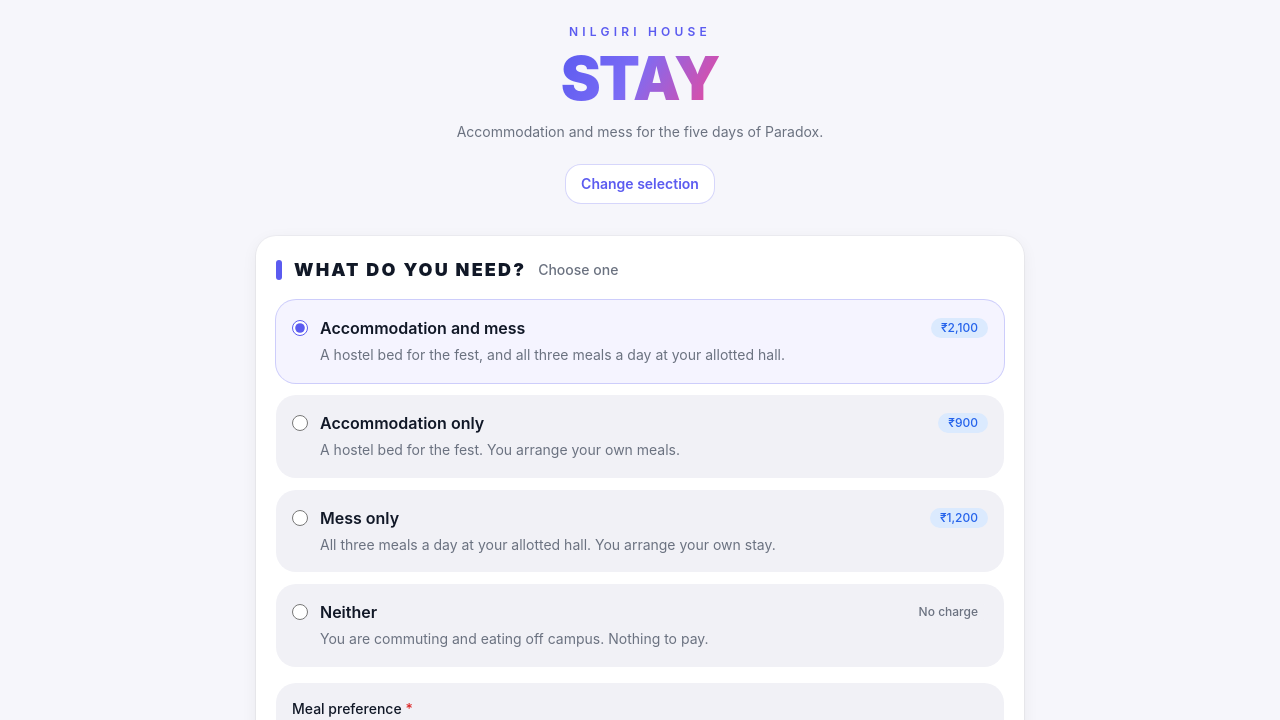
AccommodationPage › settles "neither" on the spot, with no checkout and nothing to pay
Click the radio button labelled "Neither": (300, 612) [292,604,308,620]
(page scrolled)
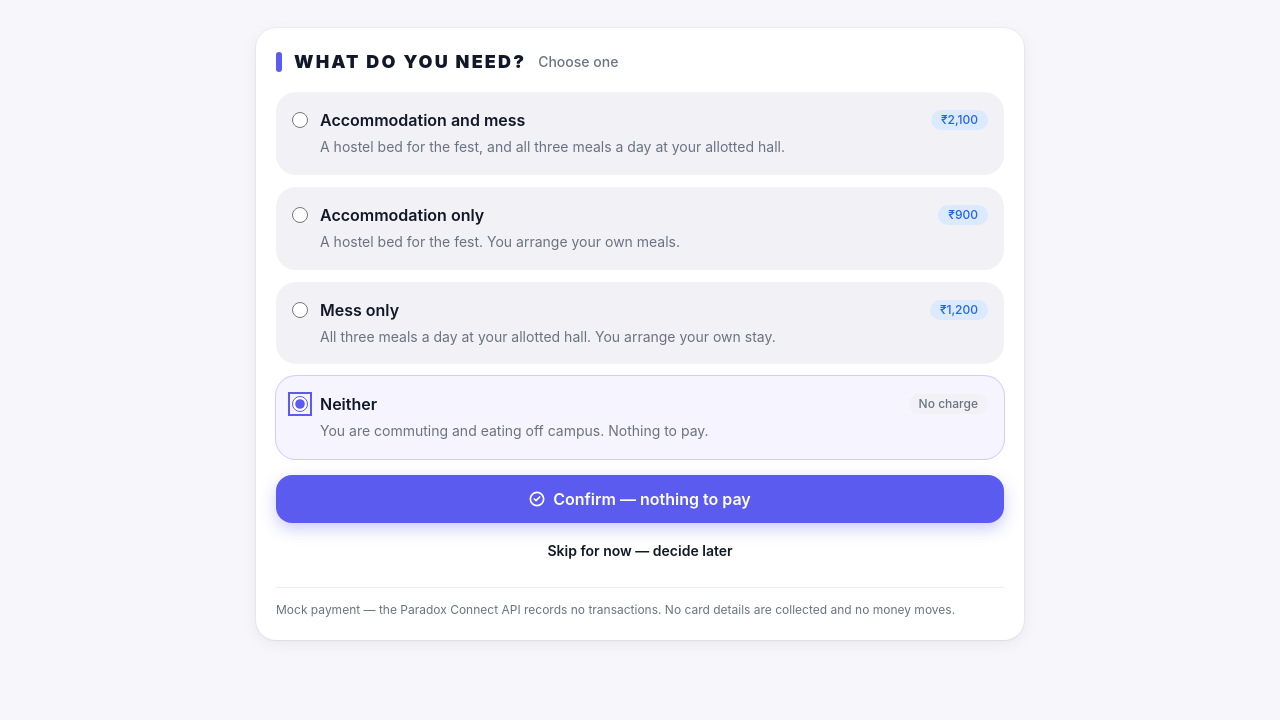
Click the button "Confirm — nothing to pay": (640, 499) [276,475,1004,523]
(page scrolled)
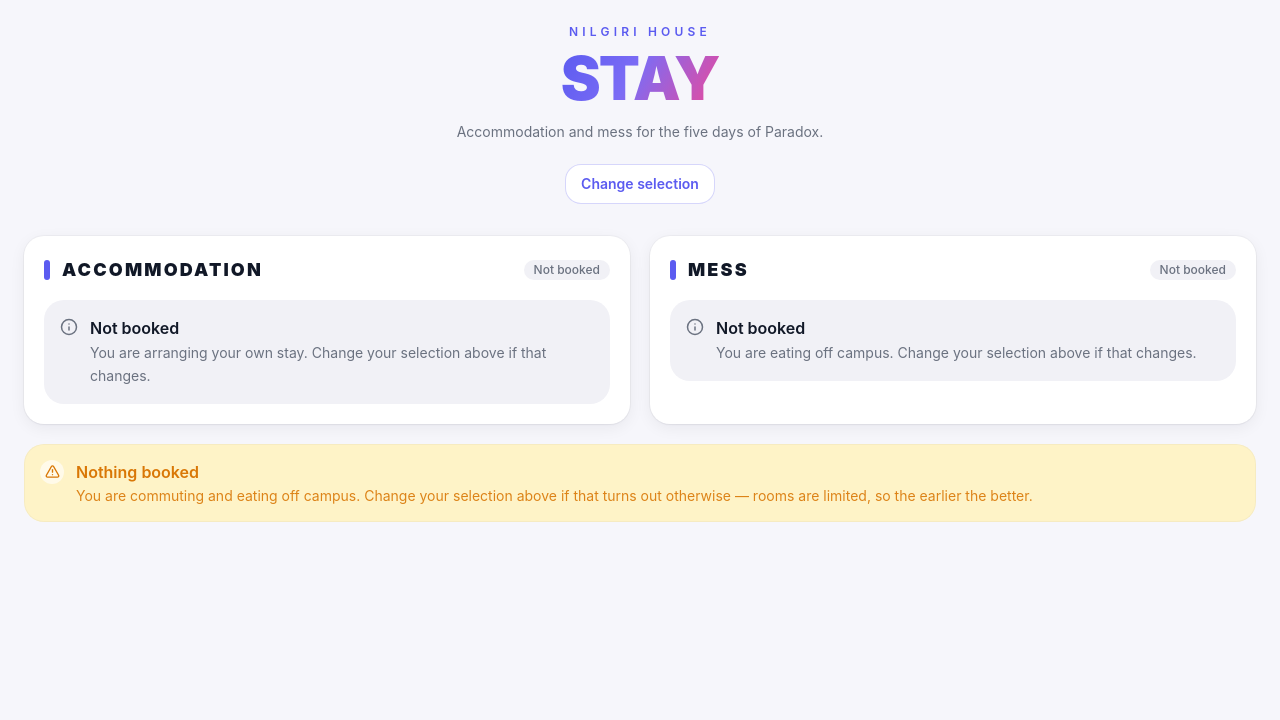
Check: the text "Nothing booked" is shown, box [76,462,199,482]
